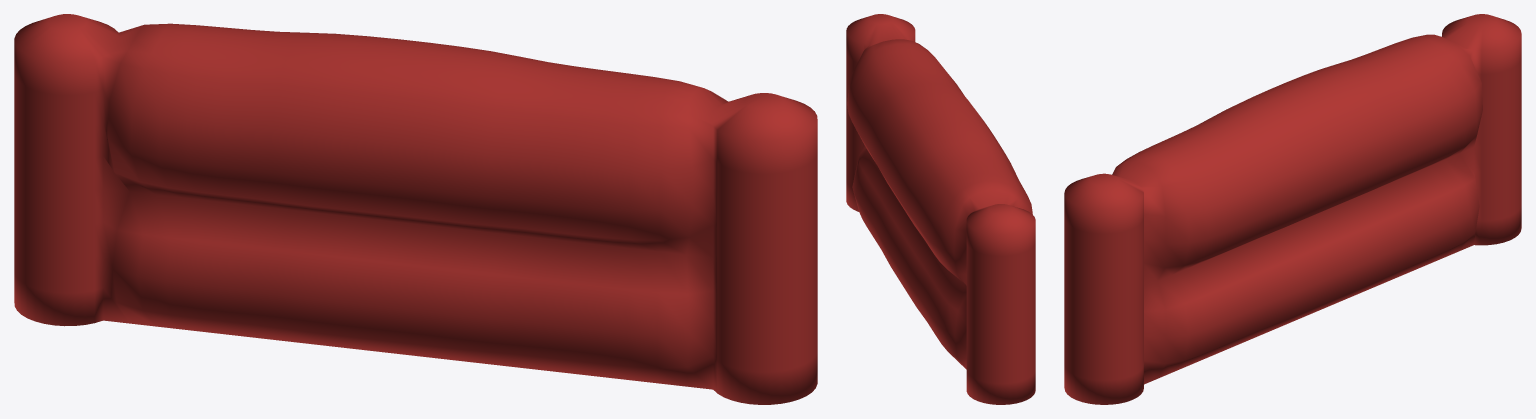
The model's file is wall_diag1.fbx.
The picture shows the model from 3 angles, left to right: view 1: azimuth 30°, elevation 25°; view 2: azimuth 150°, elevation 25°; view 3: azimuth 270°, elevation 25°; orthographic projection. The views are drawn at different scales.
Parts seen in each view (by area): view 1: bouncyWall1.diagonal; view 2: bouncyWall1.diagonal; view 3: bouncyWall1.diagonal.
Boxes of the visible parts, box(x1,y1,x2,y2) form: bouncyWall1.diagonal: box(14, 14, 817, 404); bouncyWall1.diagonal: box(846, 14, 1035, 404); bouncyWall1.diagonal: box(1064, 14, 1521, 404).
Bounding box in the file's own units: 99.34 × 52 × 99.34.
